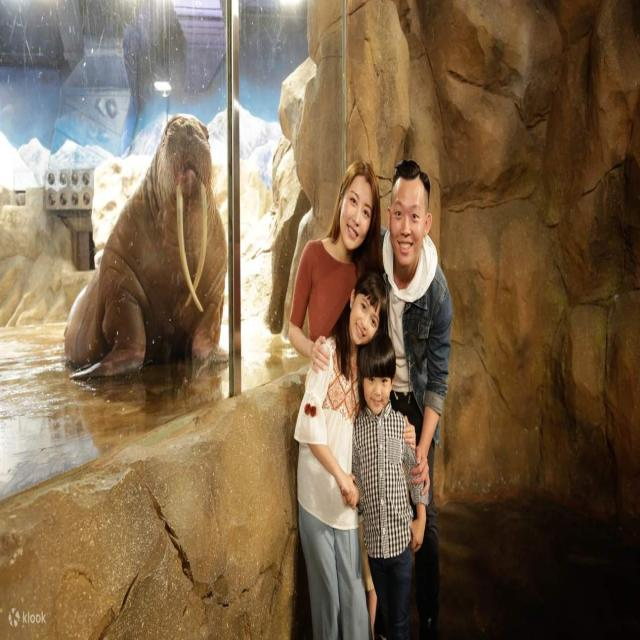walrus: (62, 111, 228, 391)
